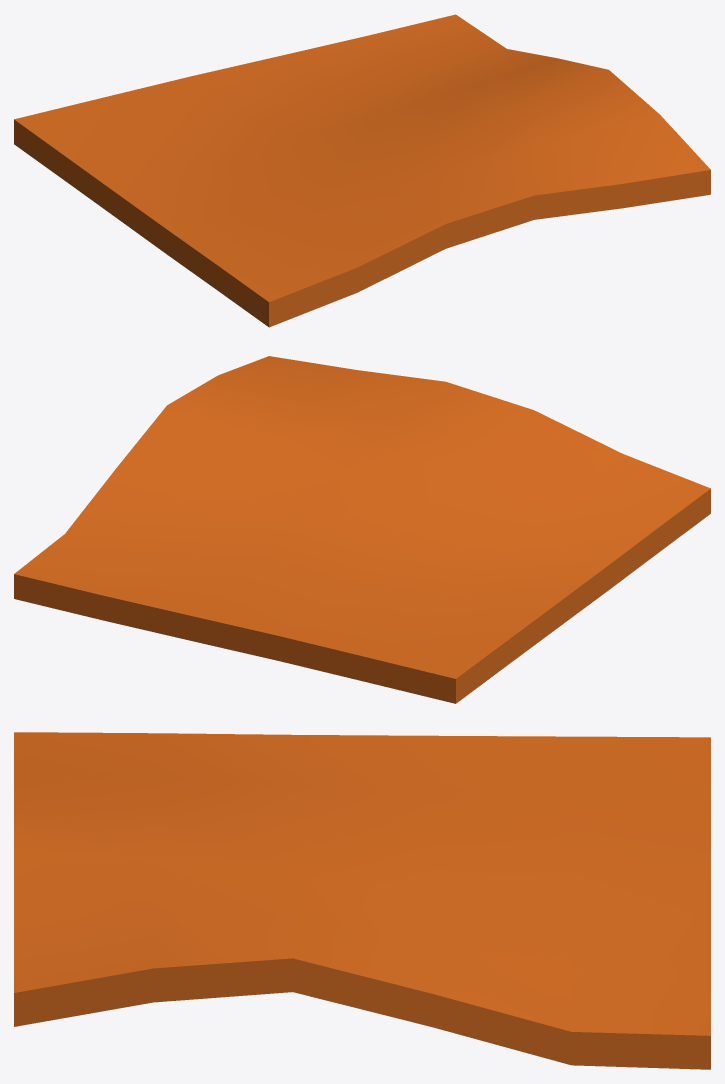
Rendered from post-square-3.fbx.
3 renders of one model, top to bottom at view 1: azimuth 30°, elevation 25°; view 2: azimuth 150°, elevation 25°; view 3: azimuth 270°, elevation 25°, orthographic. The views are drawn at different scales.
Parts seen in each view (by area): view 1: Cube.002; view 2: Cube.002; view 3: Cube.002.
Boxes of the visible parts, x1,y1,x2,y2 form: Cube.002: [14, 14, 710, 327]; Cube.002: [14, 356, 710, 703]; Cube.002: [14, 732, 710, 1069].
Size of the model in its own units: 200 by 35.27 by 200.
